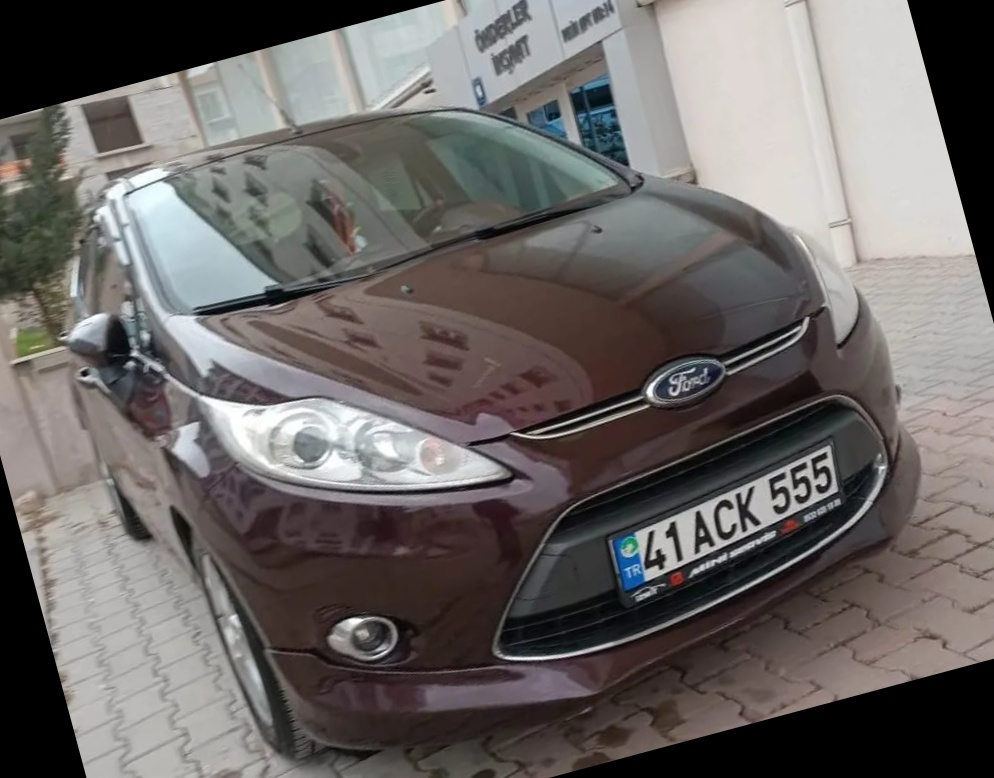plaka: (639, 438, 841, 577)
